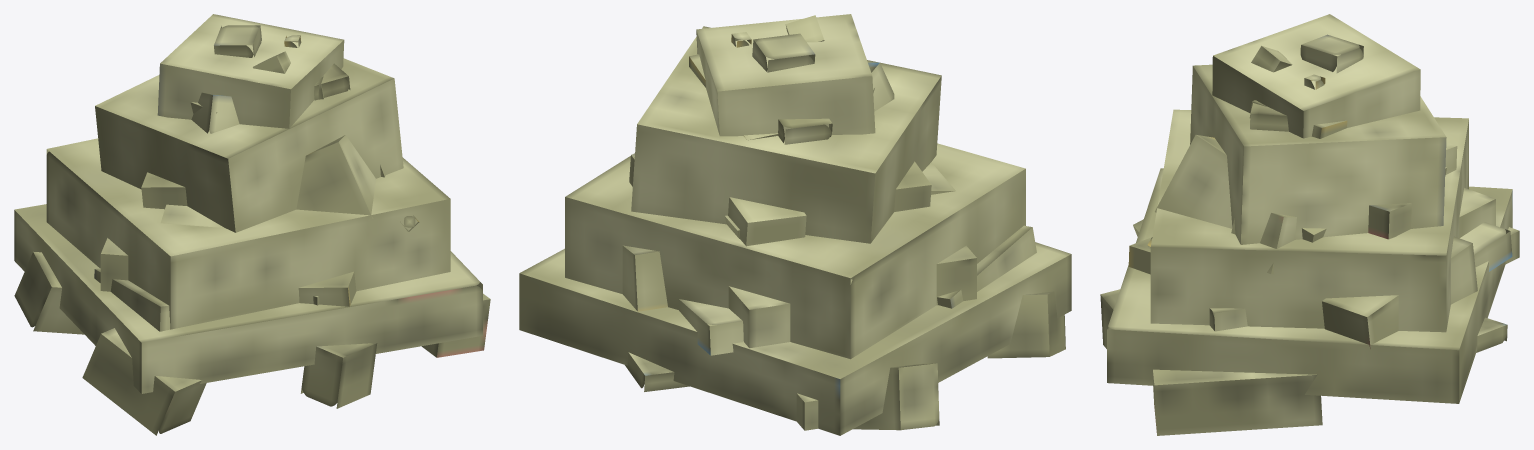
Rendered from sand.fbx.
3 views of the same model, side by side, from view 1: azimuth 30°, elevation 25°; view 2: azimuth 150°, elevation 25°; view 3: azimuth 270°, elevation 25° (orthographic). The views are drawn at different scales.
Parts seen in each view (by area): view 1: cube_1, cube_18, cube_2, cube_3, cube_24, cube_8, cube_23, cube_25, cube_28, cube_11, cube_14, cube_15 (+6 smaller); view 2: cube_1, cube_18, cube_2, cube_3, cube_25, cube_24, cube_6, cube_5, cube_10, cube_26, cube_28, cube_15 (+8 smaller); view 3: cube_1, cube_18, cube_2, cube_3, cube_22, cube_10, cube_8, cube_15, cube_26, cube_7, cube_6, cube_30 (+7 smaller).
Boxes of the visible parts, box(x1,y1,x2,y2) form: cube_1: box(46, 138, 450, 329); cube_18: box(14, 204, 482, 393); cube_2: box(95, 58, 403, 232); cube_3: box(157, 14, 344, 128); cube_24: box(82, 328, 206, 435); cube_8: box(296, 135, 375, 220); cube_23: box(300, 343, 377, 408); cube_25: box(14, 251, 84, 334); cube_28: box(94, 268, 170, 331); cube_11: box(298, 271, 356, 306); cube_14: box(191, 92, 239, 133); cube_15: box(214, 25, 261, 57); cube_1: box(565, 143, 1025, 359); cube_18: box(519, 242, 1071, 435); cube_2: box(631, 26, 941, 279); cube_3: box(696, 14, 875, 136); cube_25: box(853, 363, 939, 430); cube_24: box(987, 291, 1065, 358); cube_6: box(728, 286, 790, 348); cube_5: box(728, 197, 806, 246); cube_10: box(622, 245, 667, 311); cube_26: box(678, 280, 851, 355); cube_28: box(937, 225, 1036, 308); cube_15: box(752, 33, 815, 72); cube_1: box(1150, 109, 1468, 332); cube_18: box(1107, 168, 1512, 403); cube_2: box(1190, 64, 1446, 244); cube_3: box(1212, 14, 1420, 138); cube_22: box(1153, 369, 1322, 435); cube_10: box(1322, 236, 1477, 348); cube_8: box(1155, 135, 1232, 228); cube_15: box(1300, 34, 1363, 73); cube_26: box(1460, 222, 1512, 271); cube_7: box(1368, 203, 1411, 239); cube_6: box(1459, 188, 1495, 238); cube_30: box(1231, 213, 1296, 274).
Size of the model in its own units: 95.9 by 73.76 by 88.41.
